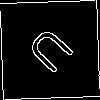U: (24, 24, 83, 83)
